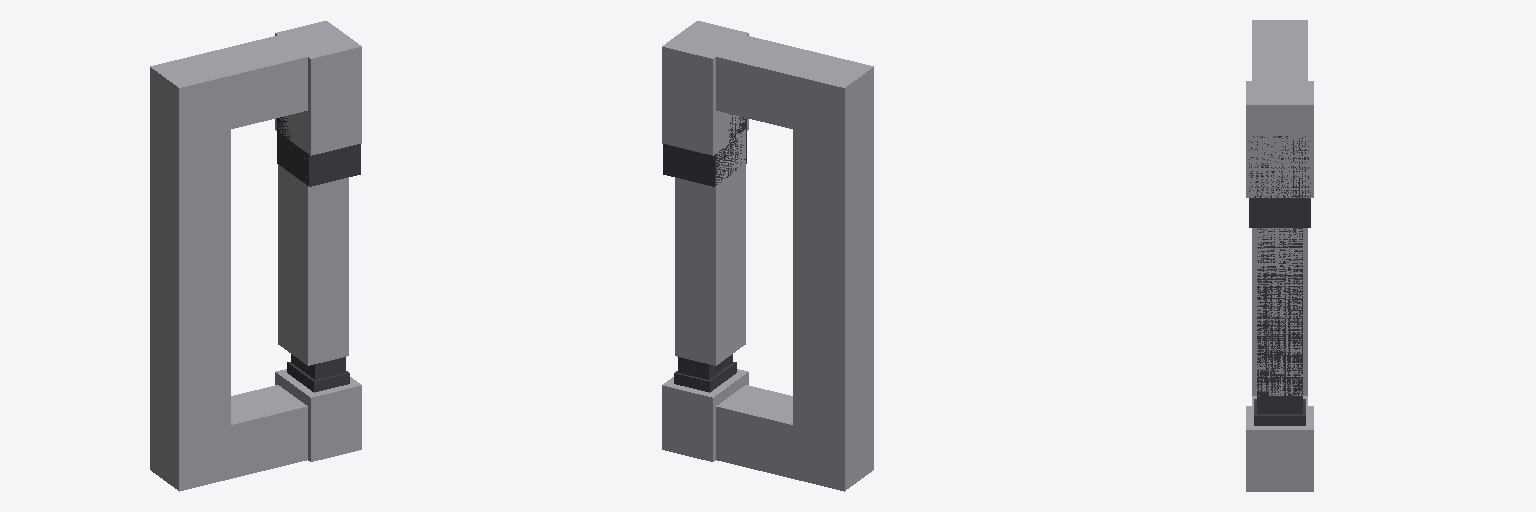
The robot description file, URDF, robot "safety_hook":
<?xml version="1.0"?>
<robot name="safety_hook">

  <!--
  Safety-hook (carabiner-style) URDF.
  Overall dimensions (world frame, when hanging on a rod):
    Width  (X): ~0.070 m
    Thick  (Y): ~0.024 m
    Height (Z): ~0.150 m

  The base link origin is placed at the BOTTOM of the frame (z=0 = bottom of hook).
  The hinge point for the gate is at approximately (0.030, 0, 0.140) in the base frame.

  Mesh scale: 1.0 (meshes are already in meters at correct size).
  -->

  <!-- =====================================================
       base link: the D-shaped frame (static half)
       ===================================================== -->
  <link name="base">
    <inertial>
      <origin xyz="-0.005 0 0.075" rpy="0 0 0"/>
      <mass value="0.30"/>
      <!-- Rough inertia for a 70x24x150mm metal body at 0.30 kg -->
      <inertia ixx="0.000600" ixy="0" ixz="0"
               iyy="0.000660" iyz="0"
               izz="0.000110"/>
    </inertial>

    <!-- Visual: D-frame mesh (actual-size, no scale) -->
    <visual>
      <origin xyz="0 0 0" rpy="0 0 0"/>
      <geometry>
        <mesh filename="package://meshes/frame.obj" scale="1.0 1.0 1.0"/>
      </geometry>
      <material name="aluminum">
        <color rgba="0.70 0.70 0.73 1.0"/>
      </material>
    </visual>

    <!-- Collision: 5 primitive boxes matching the 6 mesh boxes.
         We merge the left spine + top + bottom into 3 boxes,
         plus the hinge block and nose block (both already box-shaped).
         The right arc (Box F) is merged into the hinge/nose coverage. -->

    <!-- Left spine: x[-0.030,-0.010], y[-0.010,0.010], z[0.000,0.150] -->
    <collision>
      <origin xyz="-0.020 0 0.075" rpy="0 0 0"/>
      <geometry><box size="0.020 0.020 0.150"/></geometry>
    </collision>

    <!-- Top bar: x[-0.030,0.025], y[-0.010,0.010], z[0.130,0.150] -->
    <collision>
      <origin xyz="-0.0025 0 0.140" rpy="0 0 0"/>
      <geometry><box size="0.055 0.020 0.020"/></geometry>
    </collision>

    <!-- Bottom bar: x[-0.030,0.025], y[-0.010,0.010], z[0.000,0.020] -->
    <collision>
      <origin xyz="-0.0025 0 0.010" rpy="0 0 0"/>
      <geometry><box size="0.055 0.020 0.020"/></geometry>
    </collision>

    <!-- Hinge block (top-right): x[0.020,0.040], y[-0.012,0.012], z[0.114,0.150] -->
    <collision>
      <origin xyz="0.030 0 0.132" rpy="0 0 0"/>
      <geometry><box size="0.020 0.024 0.036"/></geometry>
    </collision>

    <!-- Nose block (bottom-right): x[0.020,0.040], y[-0.012,0.012], z[0.000,0.024] -->
    <collision>
      <origin xyz="0.030 0 0.012" rpy="0 0 0"/>
      <geometry><box size="0.020 0.024 0.024"/></geometry>
    </collision>

    <!-- Right arc fill: x[0.020,0.036], y[-0.010,0.010], z[0.035,0.115] -->
    <collision>
      <origin xyz="0.028 0 0.075" rpy="0 0 0"/>
      <geometry><box size="0.016 0.020 0.080"/></geometry>
    </collision>
  </link>

  <!-- =====================================================
       gate link: the screw-gate / clasp (rotates about hinge)
       Gate local frame: origin = hinge point.
       At q=0 (closed): gate tip is at z=-0.130, resting in nose.
       Opens by rotating about Y-axis (positive angle = opens outward in +X dir).
       ===================================================== -->
  <link name="gate">
    <inertial>
      <!-- Gate COM: roughly -0.055 below hinge in gate local Z -->
      <origin xyz="0 0 -0.055" rpy="0 0 0"/>
      <mass value="0.04"/>
      <inertia ixx="0.000030" ixy="0" ixz="0"
               iyy="0.000030" iyz="0"
               izz="0.000002"/>
    </inertial>

    <visual>
      <origin xyz="0 0 0" rpy="0 0 0"/>
      <geometry>
        <mesh filename="package://meshes/gate.obj" scale="1.0 1.0 1.0"/>
      </geometry>
      <material name="dark_aluminum">
        <color rgba="0.30 0.30 0.33 1.0"/>
      </material>
    </visual>

    <!-- Collision: 3 boxes matching gate mesh.
         All in gate local frame (hinge at origin, gate extends in -Z). -->

    <!-- Main rod: centre z=-0.065 -->
    <collision>
      <origin xyz="0 0 -0.065" rpy="0 0 0"/>
      <geometry><box size="0.012 0.016 0.130"/></geometry>
    </collision>

    <!-- Locking collar: centre z=-0.020 -->
    <collision>
      <origin xyz="0 0 -0.020" rpy="0 0 0"/>
      <geometry><box size="0.020 0.022 0.036"/></geometry>
    </collision>

    <!-- Tip block: centre z=-0.122 -->
    <collision>
      <origin xyz="0 0 -0.122" rpy="0 0 0"/>
      <geometry><box size="0.014 0.018 0.020"/></geometry>
    </collision>
  </link>

  <!-- =====================================================
       gate_hinge joint
       Hinge is at the top-right of the frame.
       In base frame: (0.030, 0, 0.140).
       Axis: Y (gate swings outward in the XZ plane).
       Closed position: q = 0 (gate tip in nose, gap ~1 mm).
       Max open: ~70 deg = 1.222 rad.

       Spring: damping=0.08 Nm·s/rad gives soft-close feel.
               friction=0.05 Nm holds gate in place without external force.
       Equivalent torsion spring: 0.8 Nm/rad (gate_return_stiffness set in env).
       ===================================================== -->
  <joint name="gate_hinge" type="revolute">
    <parent link="base"/>
    <child link="gate"/>
    <origin xyz="0.030 0.000 0.140" rpy="0 0 0"/>
    <axis xyz="0 1 0"/>
    <limit lower="0.0" upper="1.222" effort="5.0" velocity="8.0"/>
    <dynamics damping="0.08" friction="0.05"/>
  </joint>

</robot>

--- Facts derived from the render (not from the file) ---
Views: 3 orthographic renders of the robot side by side, from view 1: azimuth 30°, elevation 25°; view 2: azimuth 150°, elevation 25°; view 3: azimuth 270°, elevation 25°.
Model safety_hook with 2 links and 1 joints (1 revolute), rooted at base, posed all joints at 0.
Links seen in each view (by area): view 1: base, gate; view 2: base, gate; view 3: base, gate.
Boxes of the visible links, left/top/right/bottom form: base: left=150, top=21, right=361, bottom=491; gate: left=277, top=117, right=360, bottom=392; base: left=662, top=21, right=873, bottom=491; gate: left=663, top=114, right=746, bottom=392; base: left=1246, top=20, right=1313, bottom=491; gate: left=1249, top=136, right=1310, bottom=425.
Size in the robot's own frame: 0.07 by 0.024 by 0.15 metres.
2 mesh visuals loaded from 2 distinct referenced files (2 OBJ).
